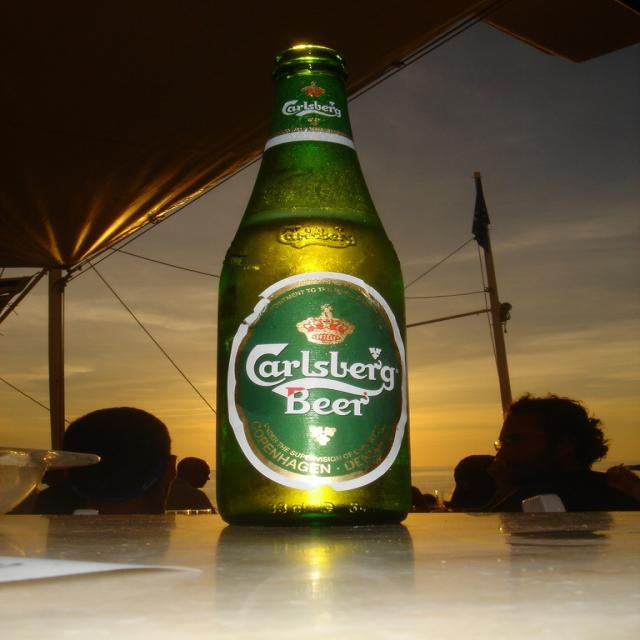carlsberg: (232, 278, 406, 486), (281, 81, 345, 128)
